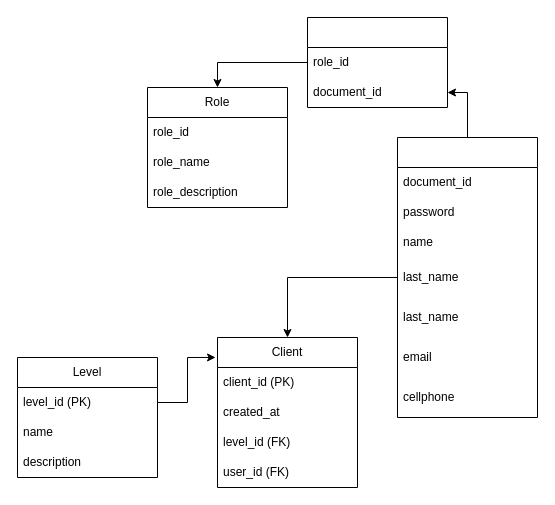
The diagram is 555 pixels wide and 505 high, and some of its shapes have lost their labels. The shapes that lost their labels are listed below. From the top down, each one's box as (x1, y1, x2, y2) in pixels, then its label:
(306, 16, 448, 108): Role_User
(396, 136, 538, 418): User
